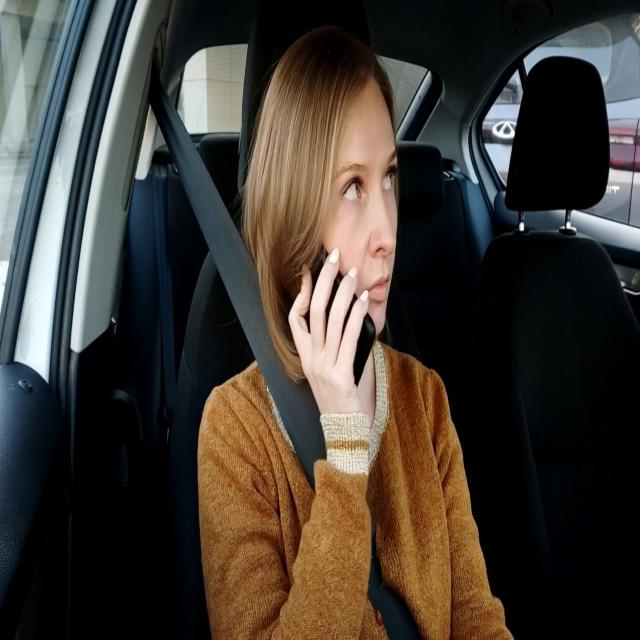phone: (300, 219, 377, 388)
